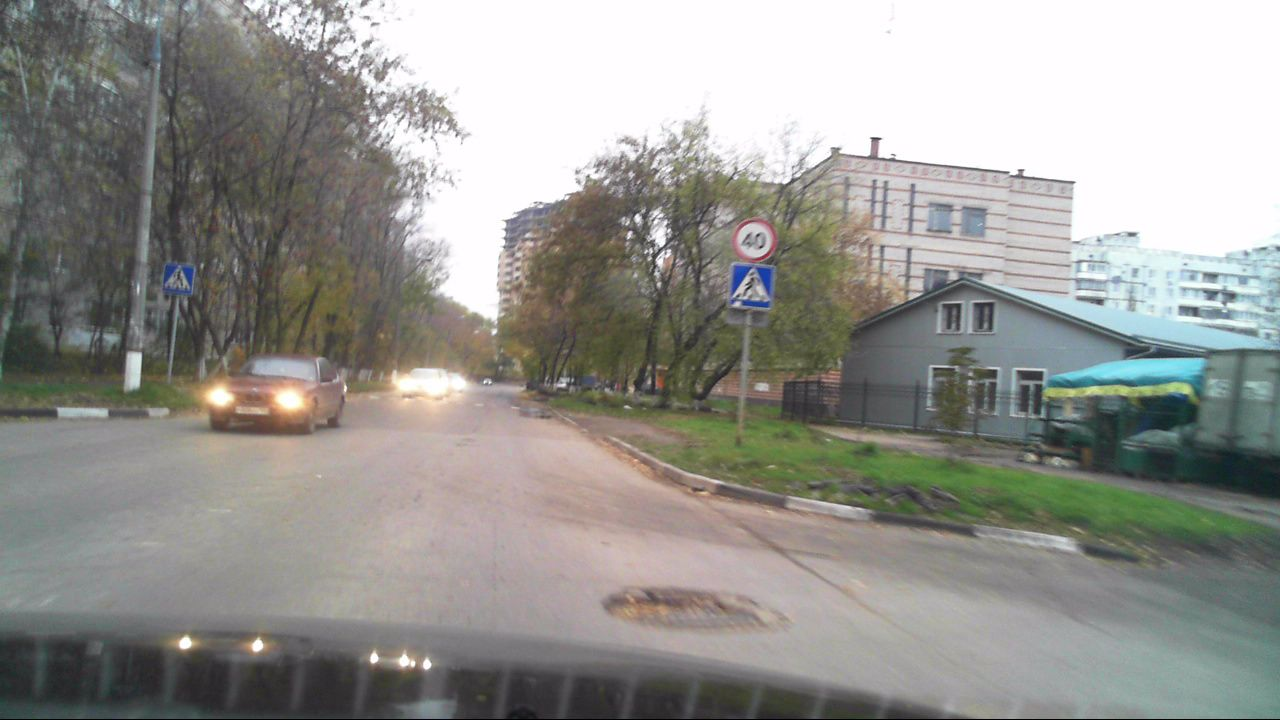speed_warning_40: (735, 220, 776, 262)
